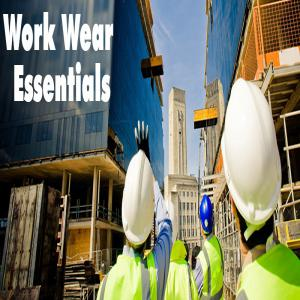white: (223, 78, 284, 245), (122, 151, 156, 258)
yellow: (199, 197, 214, 239)
